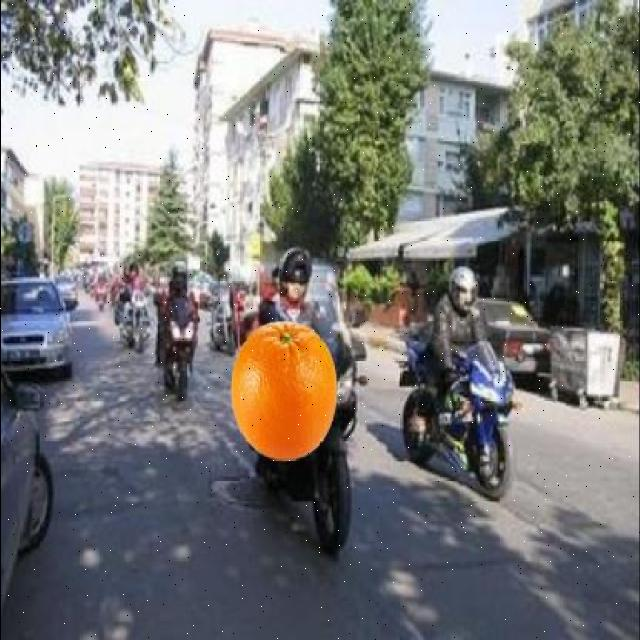Orange: (230, 318, 338, 462)
